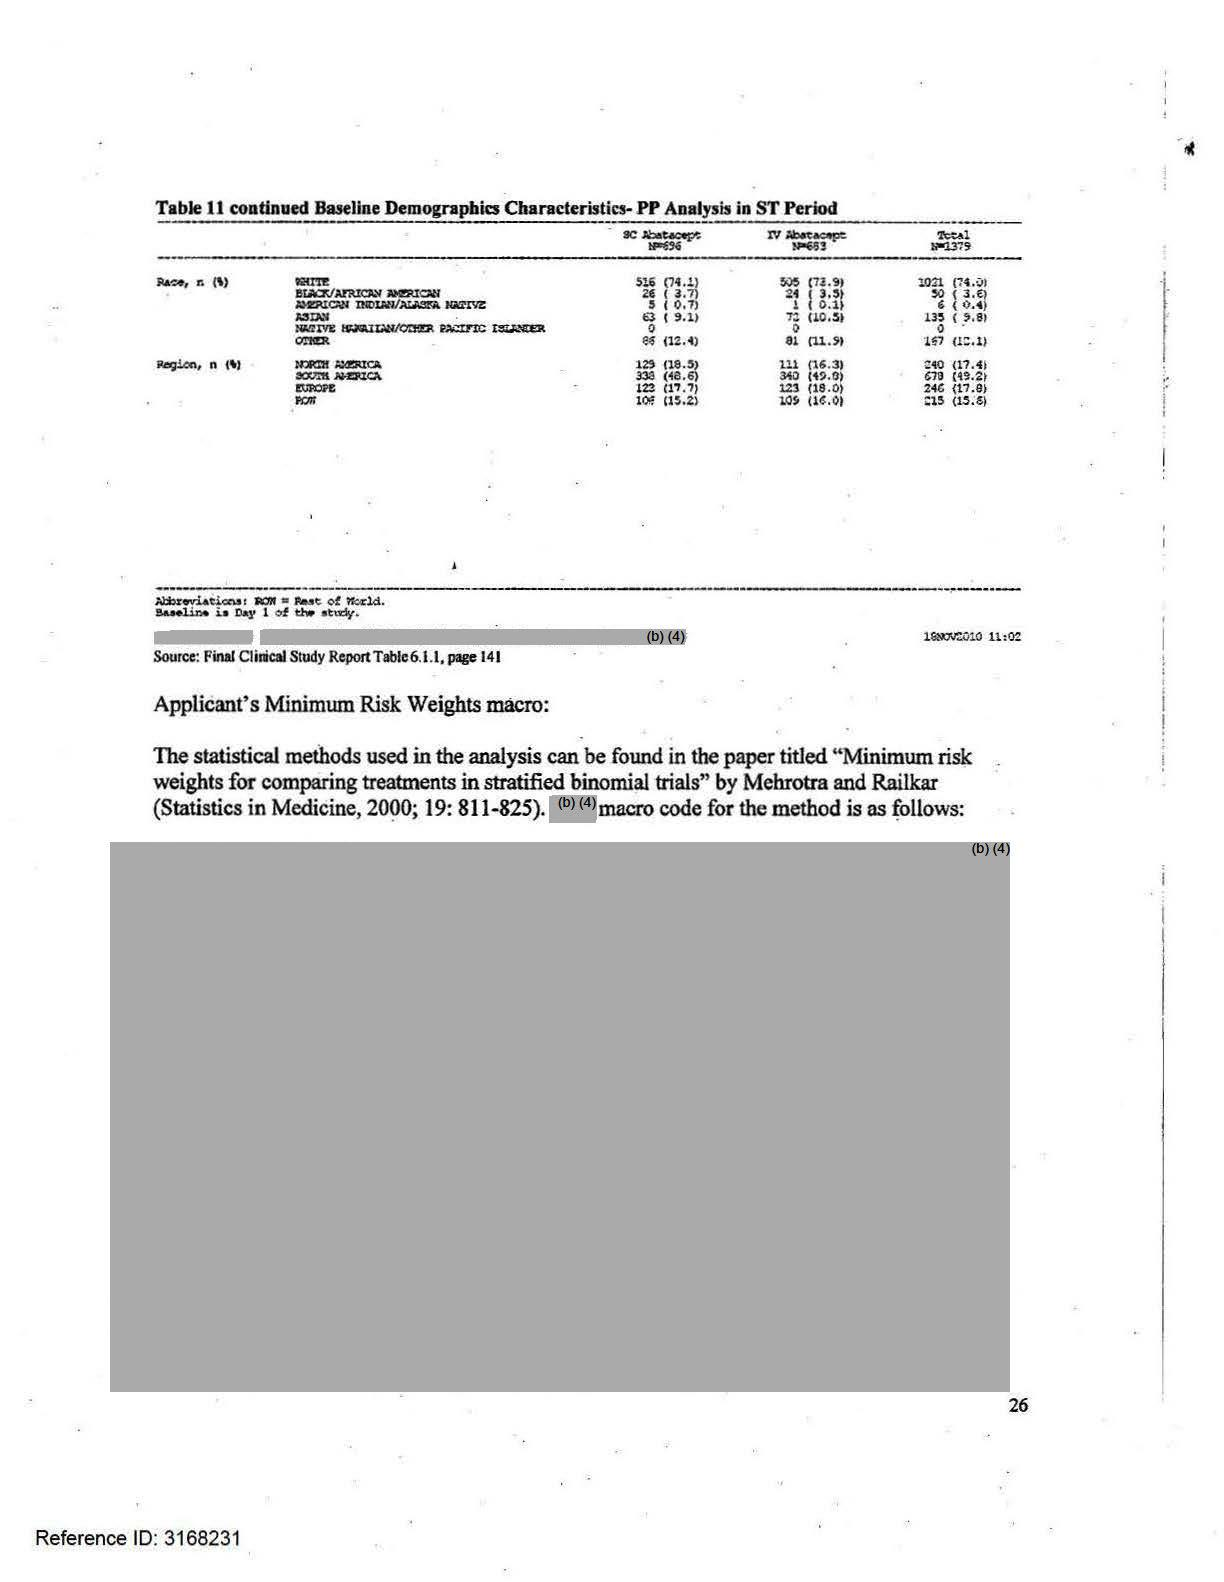partial_lined: (155, 218, 1024, 592)
